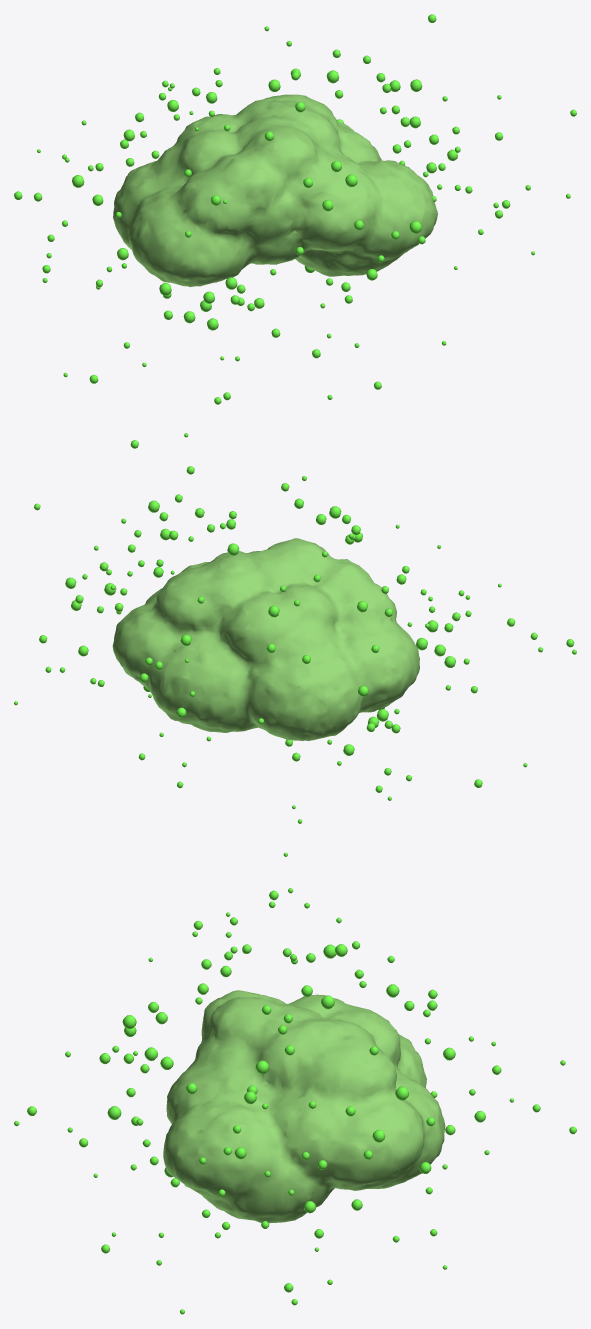
File: spore_drift.obj
The picture shows the model from 3 angles, top to bottom: view 1: azimuth 30°, elevation 25°; view 2: azimuth 150°, elevation 25°; view 3: azimuth 270°, elevation 25°; orthographic projection. The views are drawn at different scales.
Visible parts, largest first — view 1: spore_drift; view 2: spore_drift; view 3: spore_drift.
Part boxes in pixels (x1=…): spore_drift: x1=14, y1=14, x2=576, y2=404; spore_drift: x1=14, y1=433, x2=576, y2=823; spore_drift: x1=14, y1=852, x2=576, y2=1314.
Bounding box in the file's own units: 800 × 447 × 655.
Materials: 1 (1 with a texture image).
